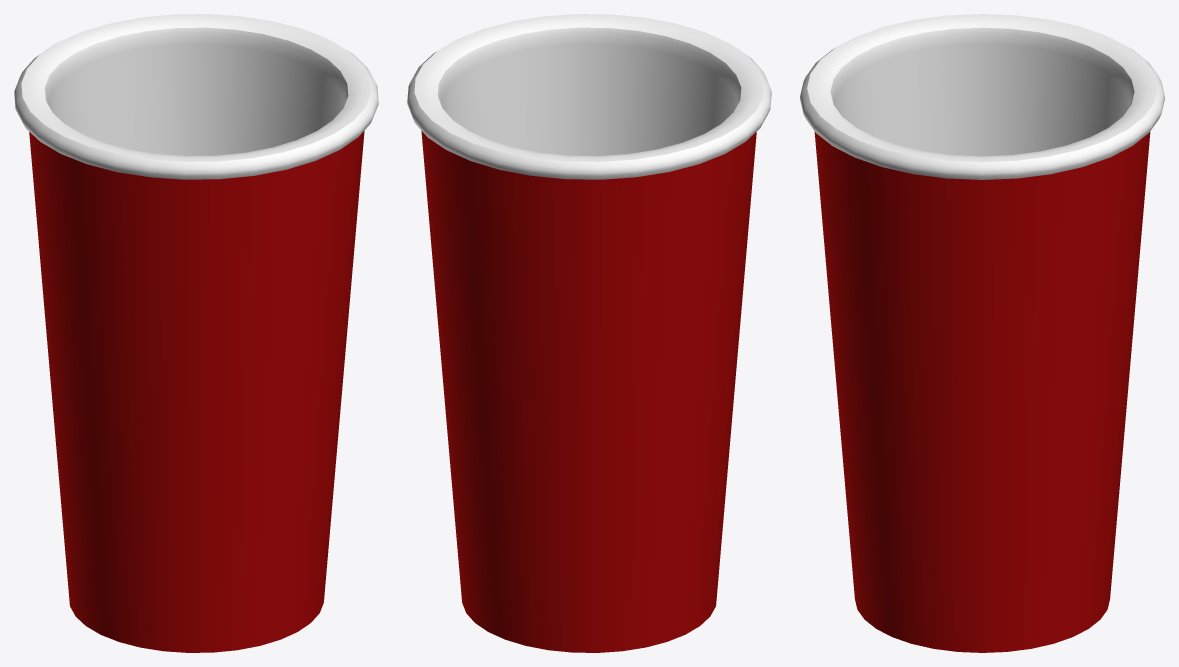
The model's file is Drinks_05.glb.
The picture shows the model from 3 angles, left to right: view 1: azimuth 30°, elevation 25°; view 2: azimuth 150°, elevation 25°; view 3: azimuth 270°, elevation 25°; orthographic projection.
Visible parts, largest first — view 1: Mesh_Drinks_05; view 2: Mesh_Drinks_05; view 3: Mesh_Drinks_05.
Boxes of the visible parts, x1,y1,x2,y2 form: Mesh_Drinks_05: [14, 14, 378, 652]; Mesh_Drinks_05: [407, 14, 771, 652]; Mesh_Drinks_05: [800, 14, 1164, 652].
Bounding box in the file's own units: 0.1073 × 0.1657 × 0.1073.
1 material, 1 textured.
